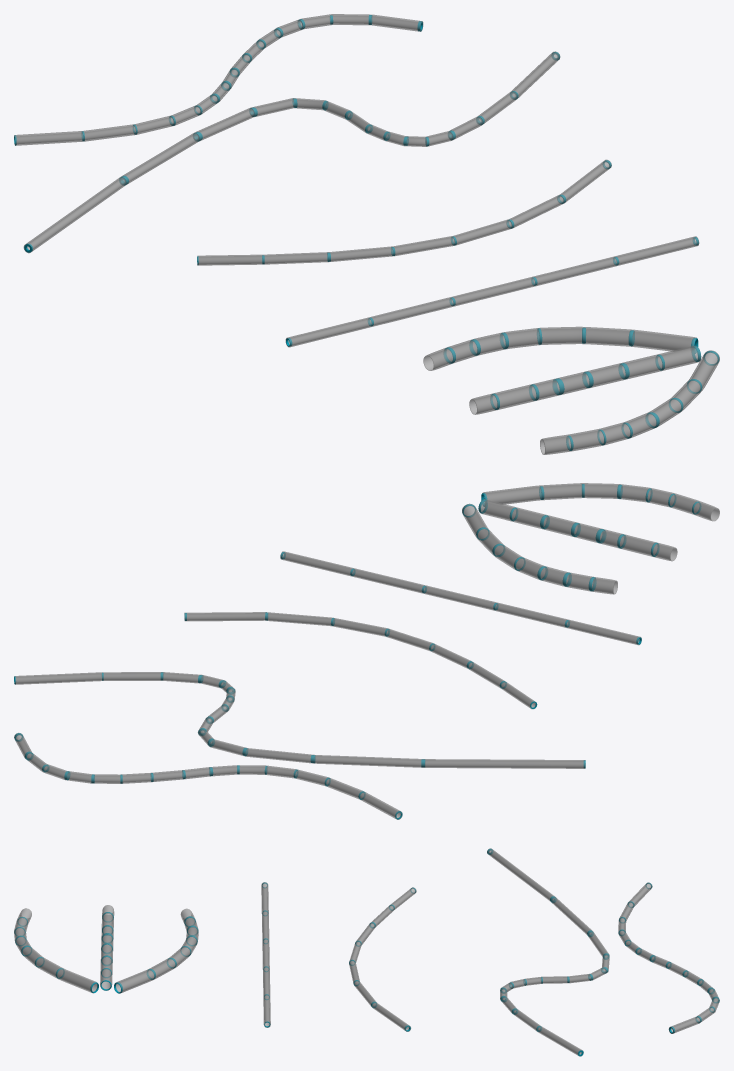
The model's file is tubes2.FBX.
3 views of the same model, one above another, from view 1: azimuth 30°, elevation 25°; view 2: azimuth 150°, elevation 25°; view 3: azimuth 270°, elevation 25° (orthographic). The views are drawn at different scales.
Visible parts, largest first — view 1: Line003, TubeZ, TubeS, TubeC, tubeI; view 2: Line003, TubeZ, TubeS, tubeI, TubeC; view 3: Line003, TubeZ, TubeS, TubeC, tubeI.
Part boxes in pixels (bbox=[...]): Line003: bbox=[423, 326, 719, 454]; TubeZ: bbox=[23, 51, 560, 253]; TubeS: bbox=[14, 14, 423, 145]; TubeC: bbox=[197, 159, 611, 265]; tubeI: bbox=[285, 236, 699, 347]; Line003: bbox=[462, 483, 719, 594]; TubeZ: bbox=[14, 672, 585, 768]; TubeS: bbox=[14, 732, 402, 819]; tubeI: bbox=[280, 551, 641, 645]; TubeC: bbox=[184, 612, 537, 709]; Line003: bbox=[14, 905, 198, 993]; TubeZ: bbox=[487, 848, 609, 1056]; TubeS: bbox=[618, 882, 719, 1033]; TubeC: bbox=[349, 887, 416, 1031]; tubeI: bbox=[261, 882, 270, 1027].
Size of the model in its own units: 633 by 16.19 by 929.
